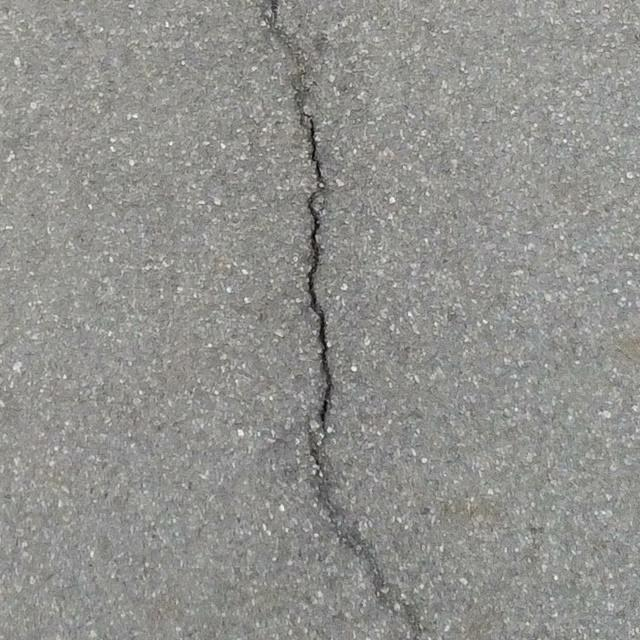LongitudinalCrack: (257, 1, 420, 631)
